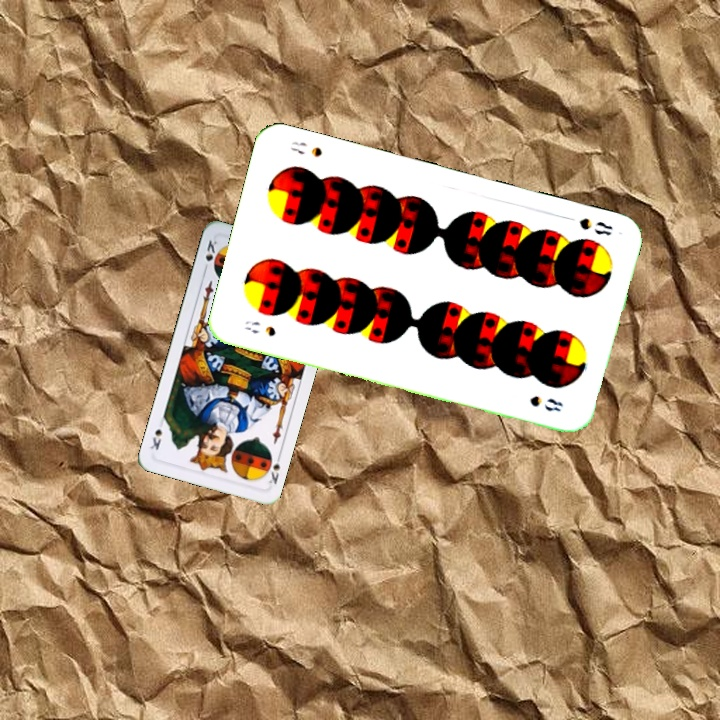S8: (575, 213, 615, 239), (241, 316, 279, 339)
SK: (200, 236, 220, 275), (265, 450, 284, 487)
